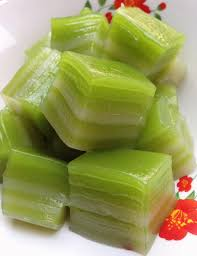kanomchan: (66, 145, 179, 255), (42, 48, 159, 152), (2, 144, 76, 237)
